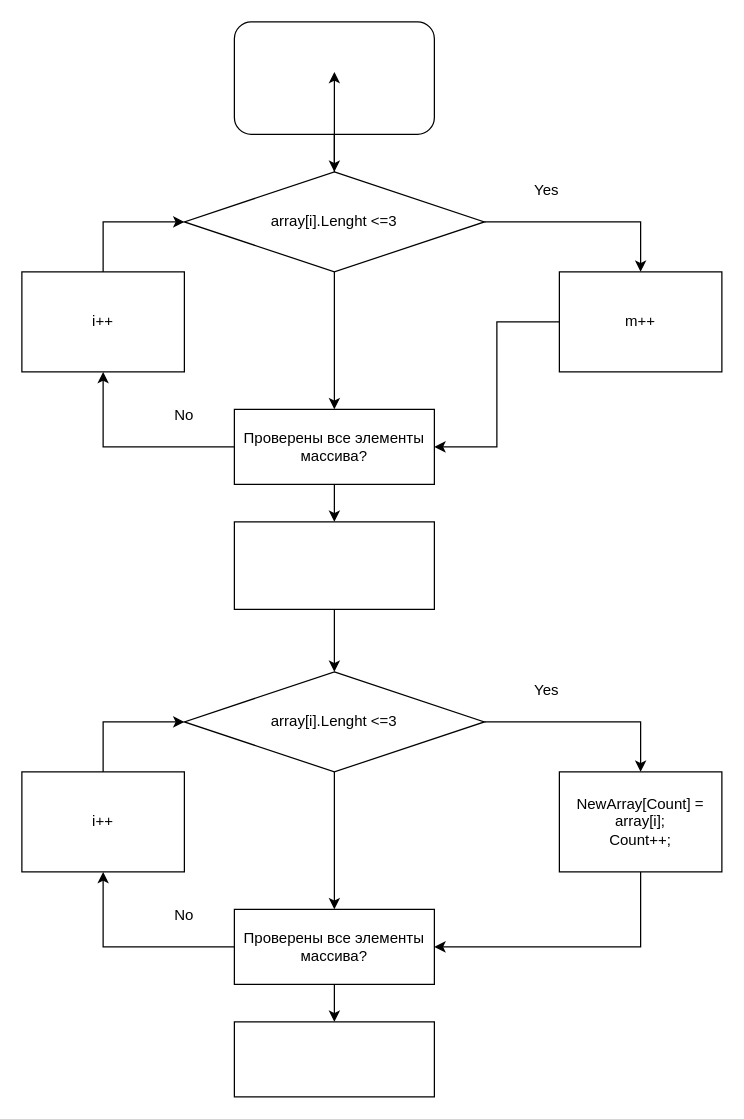
The diagram is 744 pixels wide and 1119 high, and some of its shapes have lost their labels. Each missing label, with the centre of its shape:
String[]array: { "hello" , "2" , "world" , ":-)" }: (x=333, y=77)
Вывод на экран NewArray: (x=333, y=1059)
Создаем новый массив String, длинной m NewArray[], int Count = 0;: (x=333, y=565)
